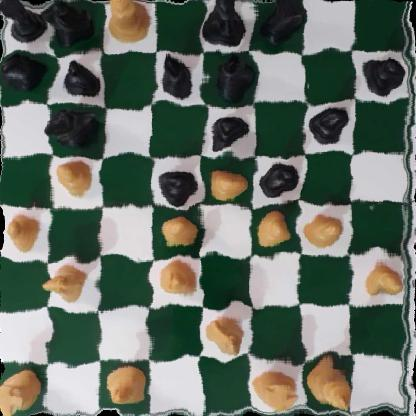black-bishop: (208, 53, 252, 97), (158, 54, 199, 98)
black-king: (203, 0, 248, 47)
black-knight: (36, 2, 92, 45), (48, 105, 97, 153)
black-pawn: (360, 53, 405, 94), (310, 103, 352, 145), (208, 112, 248, 155), (4, 55, 44, 97), (260, 159, 302, 198), (62, 58, 99, 100), (160, 166, 195, 201)
black-rook: (0, 0, 50, 47), (261, 0, 304, 45)
white-bishop: (105, 362, 144, 411), (160, 262, 200, 298)
white-king: (309, 355, 353, 415)
white-knight: (34, 264, 95, 301), (205, 310, 246, 355)
white-pawn: (360, 258, 403, 300), (4, 206, 42, 250), (201, 166, 245, 201), (308, 206, 342, 250), (255, 210, 293, 249), (56, 159, 96, 196), (161, 211, 198, 249)
white-queen: (109, 0, 151, 46)
white-rook: (0, 367, 43, 413), (256, 370, 299, 409)
